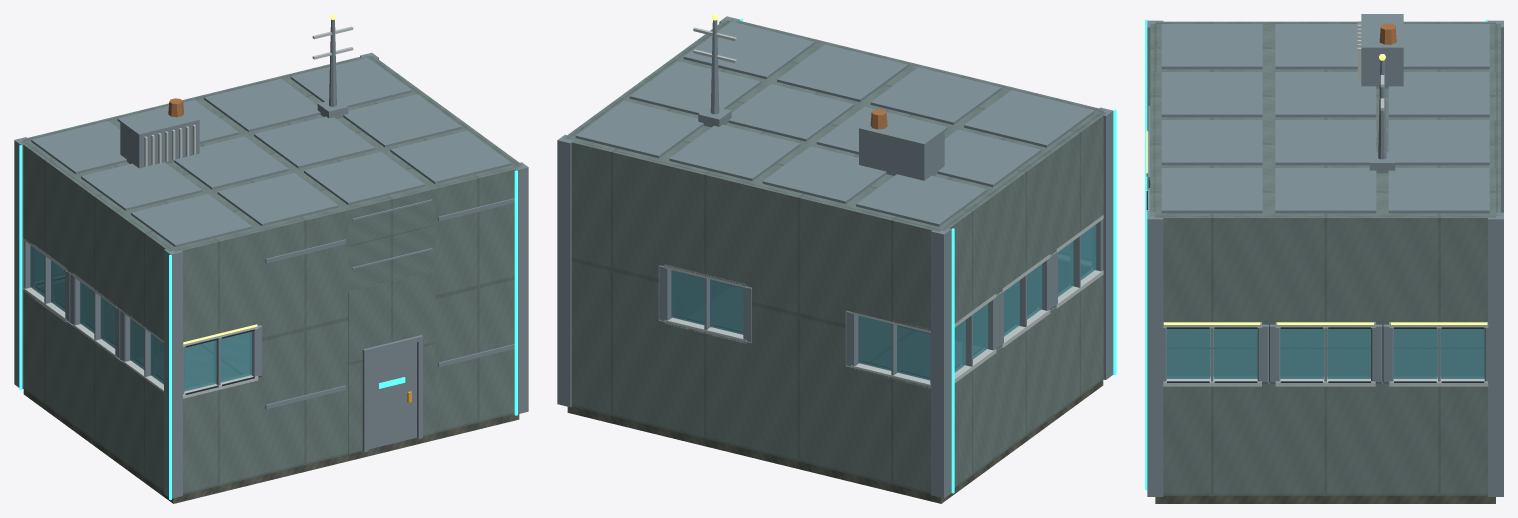
File: Workshop_5p4m.glb
3 views of the same model, side by side, from view 1: azimuth 30°, elevation 25°; view 2: azimuth 150°, elevation 25°; view 3: azimuth 270°, elevation 25° (orthographic). The views are drawn at different scales.
Parts seen in each view (by area): view 1: Hab_Wall_Solid_2m.014, Hab_Wall_Solid_2m.017, Hab_Wall_Window_2m.042, Hab_Wall_Window_2m.047, Hab_Wall_Window_2m.049, Hab_Wall_Window_2m.045, Hab_Wall_Door_2m.003, Hab_Wall_Solid_2m.016, Hab_Pressure_Door.003, Hab_Corner_3p6m.021, Hab_Roof_2m.019, Hab_Roof_2m.016 (+22 smaller); view 2: Hab_Wall_Solid_2m.015, Hab_Wall_Solid_2m.018, Hab_Wall_Window_2m.044, Hab_Wall_Window_2m.043, Hab_Wall_Window_2m.047, Hab_Wall_Window_2m.045, Hab_Wall_Window_2m.049, Hab_Corner_3p6m.022, Hab_Roof_2m.019, Hab_Roof_2m.016, Hab_Roof_2m.020, Hab_Roof_2m.024 (+21 smaller); view 3: Hab_Wall_Window_2m.048, Hab_Wall_Window_2m.050, Hab_Wall_Window_2m.046, Hab_Roof_2m.016, Hab_Roof_2m.019, Hab_Roof_2m.022, Hab_Roof_2m.023, Hab_Roof_2m.024, Hab_Corner_3p6m.023, Hab_Roof_2m.013, Hab_Roof_2m.020, Hab_Roof_2m.018 (+19 smaller).
Boxes of the visible parts, x1=… form: Hab_Wall_Solid_2m.014: x1=260, y1=208, x2=348, y2=475; Hab_Wall_Solid_2m.017: x1=433, y1=166, x2=520, y2=432; Hab_Wall_Window_2m.042: x1=173, y1=228, x2=262, y2=494; Hab_Wall_Window_2m.047: x1=69, y1=176, x2=126, y2=458; Hab_Wall_Window_2m.049: x1=20, y1=140, x2=76, y2=422; Hab_Wall_Window_2m.045: x1=119, y1=214, x2=176, y2=491; Hab_Wall_Door_2m.003: x1=348, y1=270, x2=435, y2=454; Hab_Wall_Solid_2m.016: x1=346, y1=187, x2=434, y2=291; Hab_Pressure_Door.003: x1=368, y1=342, x2=416, y2=449; Hab_Corner_3p6m.021: x1=164, y1=249, x2=182, y2=499; Hab_Roof_2m.019: x1=297, y1=151, x2=432, y2=208; Hab_Roof_2m.016: x1=210, y1=172, x2=345, y2=229; Hab_Wall_Solid_2m.015: x1=752, y1=184, x2=847, y2=472; Hab_Wall_Solid_2m.018: x1=571, y1=140, x2=660, y2=427; Hab_Wall_Window_2m.044: x1=658, y1=160, x2=756, y2=450; Hab_Wall_Window_2m.043: x1=845, y1=206, x2=943, y2=493; Hab_Wall_Window_2m.047: x1=992, y1=150, x2=1053, y2=455; Hab_Wall_Window_2m.045: x1=1045, y1=112, x2=1106, y2=415; Hab_Wall_Window_2m.049: x1=940, y1=190, x2=999, y2=487; Hab_Corner_3p6m.022: x1=931, y1=228, x2=954, y2=498; Hab_Roof_2m.019: x1=769, y1=43, x2=915, y2=105; Hab_Roof_2m.016: x1=863, y1=66, x2=1009, y2=128; Hab_Roof_2m.020: x1=726, y1=83, x2=861, y2=144; Hab_Roof_2m.024: x1=568, y1=100, x2=708, y2=161; Hab_Wall_Window_2m.048: x1=1269, y1=213, x2=1382, y2=495; Hab_Wall_Window_2m.050: x1=1382, y1=213, x2=1495, y2=495; Hab_Wall_Window_2m.046: x1=1155, y1=213, x2=1268, y2=495; Hab_Roof_2m.016: x1=1155, y1=72, x2=1268, y2=119; Hab_Roof_2m.019: x1=1155, y1=120, x2=1268, y2=167; Hab_Roof_2m.022: x1=1155, y1=168, x2=1268, y2=215; Hab_Roof_2m.023: x1=1269, y1=168, x2=1382, y2=215; Hab_Roof_2m.024: x1=1382, y1=168, x2=1495, y2=215; Hab_Corner_3p6m.023: x1=1145, y1=211, x2=1163, y2=496; Hab_Roof_2m.013: x1=1155, y1=24, x2=1268, y2=71; Hab_Roof_2m.020: x1=1269, y1=120, x2=1378, y2=167; Hab_Roof_2m.018: x1=1385, y1=72, x2=1495, y2=119.
Bounding box in the file's own units: 8.35 × 7.82 × 6.32.
Materials: 10 (2 with a texture image).
